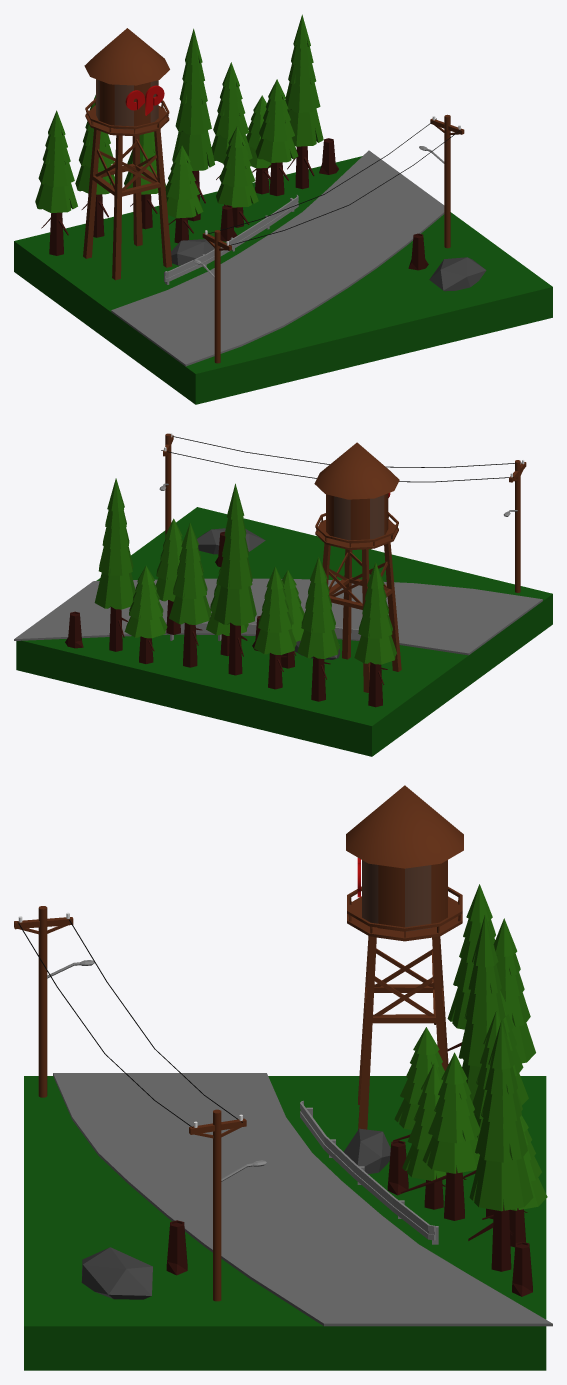
The picture shows the model from 3 angles, top to bottom: view 1: azimuth 30°, elevation 25°; view 2: azimuth 150°, elevation 25°; view 3: azimuth 270°, elevation 25°; orthographic projection. The views are drawn at different scales.
Parts seen in each view (by area): view 1: Plane001, Box003, Box007, Cylinder002, Cylinder001, Box046, GeoSphere002, Cylinder041, Cylinder065, Cylinder083, Cylinder042, Cylinder101 (+20 smaller); view 2: Plane001, Box003, Cylinder002, Box007, Cylinder001, Cylinder041, Cylinder065, Cylinder083, Cylinder077, Cylinder053, Cylinder042, Cylinder071 (+22 smaller); view 3: Plane001, Box003, Cylinder002, Cylinder001, Box007, GeoSphere002, Cylinder065, Box046, Cylinder011, Cylinder066, Cylinder101, Cylinder059 (+17 smaller).
Part boxes in pixels (x1,y1,x2,y2): Plane001: [14, 156, 552, 404]; Box003: [111, 150, 444, 366]; Box007: [83, 129, 172, 280]; Cylinder002: [84, 28, 169, 85]; Cylinder001: [96, 79, 158, 129]; Box046: [164, 195, 298, 281]; GeoSphere002: [429, 257, 486, 291]; Cylinder041: [172, 130, 214, 170]; Cylinder065: [287, 108, 323, 146]; Cylinder083: [35, 183, 77, 212]; Cylinder042: [175, 102, 211, 134]; Cylinder101: [444, 114, 450, 248]; Plane001: [16, 507, 552, 756]; Box003: [14, 578, 542, 655]; Cylinder002: [314, 442, 399, 499]; Box007: [322, 542, 401, 692]; Cylinder001: [326, 493, 388, 543]; Cylinder041: [214, 586, 256, 625]; Cylinder065: [94, 572, 135, 609]; Cylinder083: [354, 635, 396, 664]; Cylinder077: [297, 629, 339, 658]; Cylinder053: [169, 595, 211, 624]; Cylinder042: [218, 557, 252, 589]; Cylinder071: [254, 629, 296, 654]; Plane001: [24, 1076, 546, 1370]; Box003: [53, 1073, 552, 1326]; Cylinder002: [346, 785, 463, 868]; Cylinder001: [362, 860, 447, 931]; Box007: [358, 936, 448, 1129]; GeoSphere002: [81, 1247, 152, 1299]; Cylinder065: [469, 1153, 533, 1211]; Box046: [300, 1100, 435, 1240]; Cylinder011: [38, 906, 47, 1097]; Cylinder066: [475, 1118, 527, 1162]; Cylinder101: [213, 1109, 221, 1301]; Cylinder059: [422, 1135, 479, 1173].
Bounding box in the file's own units: 140 × 98.61 × 127.
